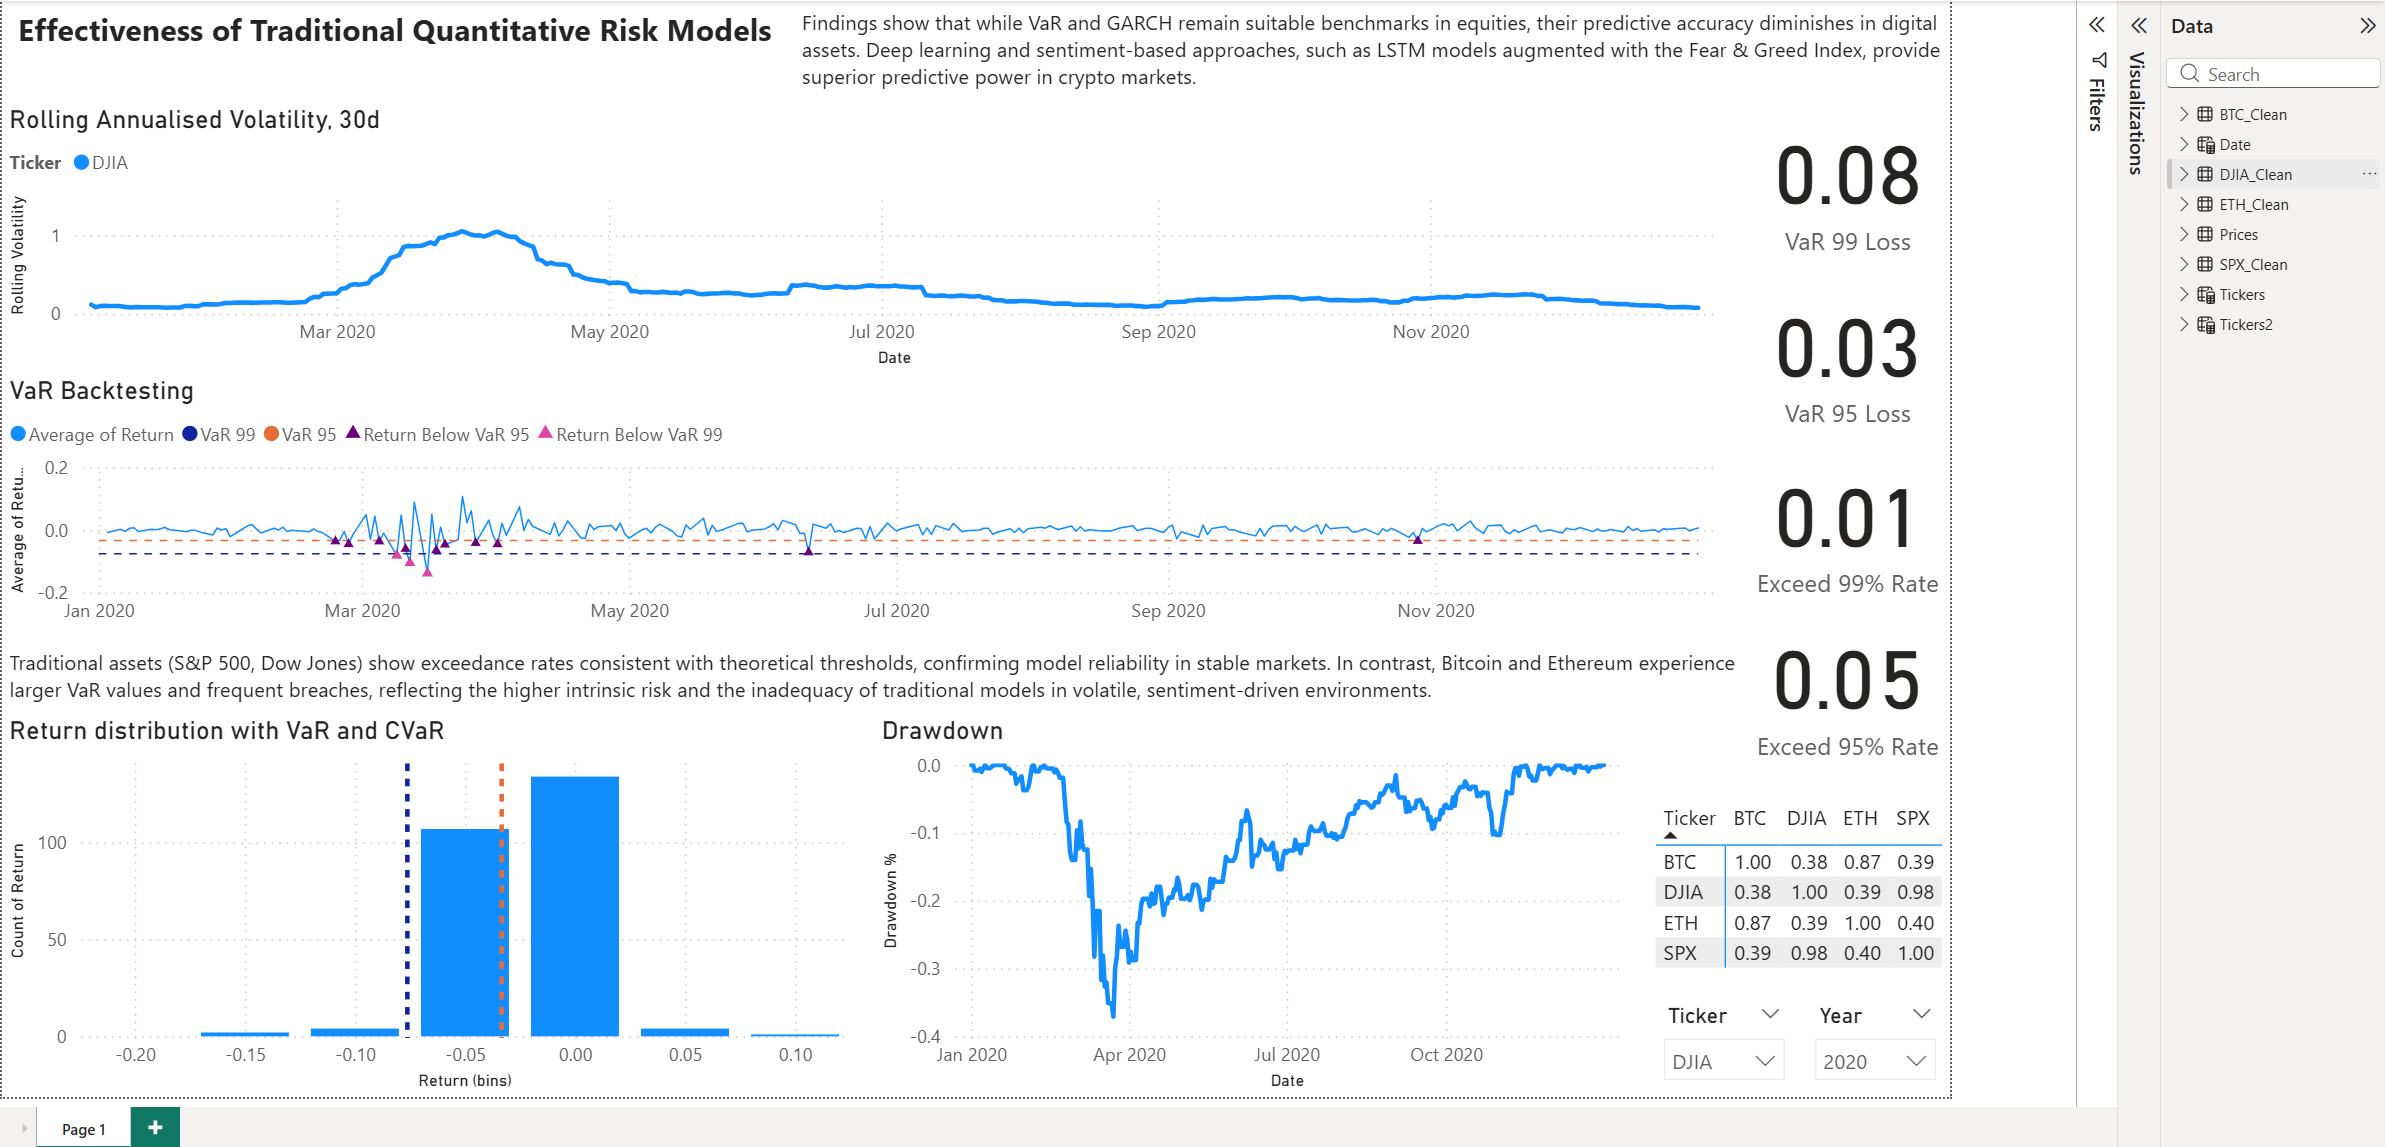

The page's visual inventory and layout, read from the dashboard file:
{"tool":"powerbi","page":{"name":"Page 1","canvas":[1280,720],"ordinal":0},"visuals":[{"type":"lineChart","title":"Rolling Annualised Volatility, 30d","fields":{"Category":["Date.Date"],"Y":["Prices.Rolling Volatility 30d"],"Series":["Prices.Ticker"]},"box":[0,67.3,1145.5,178.2],"z":0},{"type":"card","fields":{"Values":["Prices.VaR 95 Loss"]},"box":[1145.5,180.7,134.7,102.6],"z":1000},{"type":"card","fields":{"Values":["Prices.VaR 99 Loss"]},"box":[1145.5,67.3,134.7,102.6],"z":2000},{"type":"slicer","fields":{"Values":["Prices.Ticker"]},"box":[1081.5,652.8,99.4,67.3],"z":3000},{"type":"lineChart","title":"VaR Backtesting","fields":{"Category":["Date.Date"],"Y":["Avg(Prices.Return)","Prices.VaR 99","Prices.VaR 95","Prices.Return Below VaR 95","Prices.Return Below VaR 99"]},"box":[0,245.9,1145.5,173.3],"z":4000,"group":"g1"},{"type":"slicer","fields":{"Values":["Date.Year"]},"box":[1180.8,652.8,99.4,67.3],"z":4000},{"type":"card","fields":{"Values":["Prices.Exceed 95% Rate %"]},"box":[1145.5,399.1,134.7,102.6],"z":5000},{"type":"card","fields":{"Values":["Prices.Exceed 99% Rate %"]},"box":[1145.5,292.3,134.7,102.6],"z":6000},{"type":"lineChart","title":"Drawdown","fields":{"Category":["Date.Date"],"Y":["Prices.Drawdown %"]},"box":[573.2,468.9,508.3,251.3],"z":7000},{"type":"pivotTable","fields":{"Rows":["Tickers.Ticker"],"Columns":["Tickers2.Ticker"],"Values":["Prices.Correlation"]},"box":[1081.5,520.6,198.7,132.2],"z":8000},{"type":"textbox","title":"SALES AND MARKETING","box":[0,0,520.6,67.3],"z":9000},{"type":"columnChart","title":"Return distribution with VaR and CVaR","fields":{"Category":["Prices.Return (bins)"],"Y":["CountNonNull(Prices.Return)"]},"box":[0,468.9,560.9,251.3],"z":9000},{"type":"group","id":"g1","title":"Group 1","box":[0,245.9,1145.5,223.4],"z":10000},{"type":"textbox","box":[520.6,0,759.6,67.3],"z":10001},{"type":"textbox","box":[0,420.9,1145.5,48.4],"z":11001,"group":"g1"}]}

Visuals, with their boxes in screenshot pixels (x1, y1, x2, y2):
"Rolling Annualised Volatility, 30d" lineChart: bbox(0, 25, 1803, 306)
card - Prices.VaR 95 Loss: bbox(1803, 204, 2015, 365)
card - Prices.VaR 99 Loss: bbox(1803, 25, 2015, 187)
slicer - Prices.Ticker: bbox(1702, 947, 1859, 1053)
"VaR Backtesting" lineChart: bbox(0, 306, 1803, 579)
slicer - Date.Year: bbox(1858, 947, 2015, 1053)
card - Prices.Exceed 95% Rate %: bbox(1803, 547, 2015, 709)
card - Prices.Exceed 99% Rate %: bbox(1803, 379, 2015, 541)
"Drawdown" lineChart: bbox(902, 657, 1702, 1053)
pivotTable - Tickers.Ticker x Tickers2.Ticker: bbox(1702, 739, 2015, 947)
"SALES AND MARKETING" textbox: bbox(0, 0, 819, 25)
"Return distribution with VaR and CVaR" columnChart: bbox(0, 657, 883, 1053)
"Group 1" group: bbox(0, 306, 1803, 658)
textbox: bbox(819, 0, 2015, 25)
textbox: bbox(0, 582, 1803, 658)
